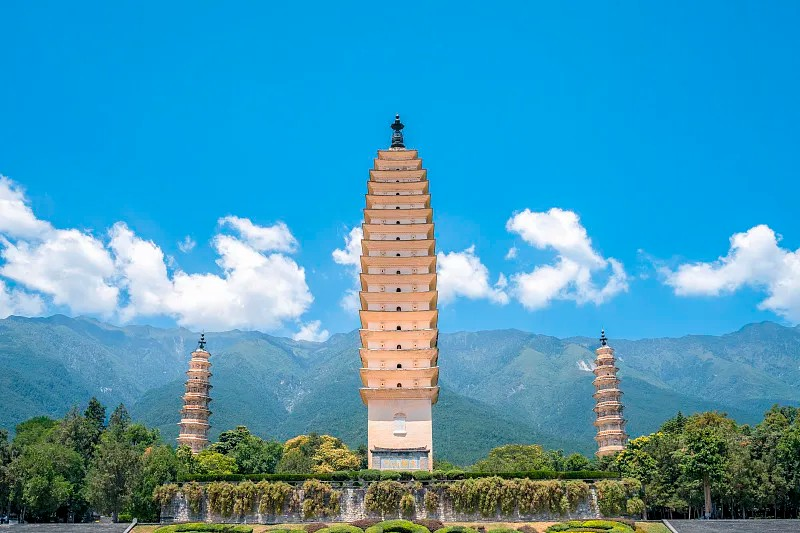ThreePagoda: (359, 115, 440, 473)
